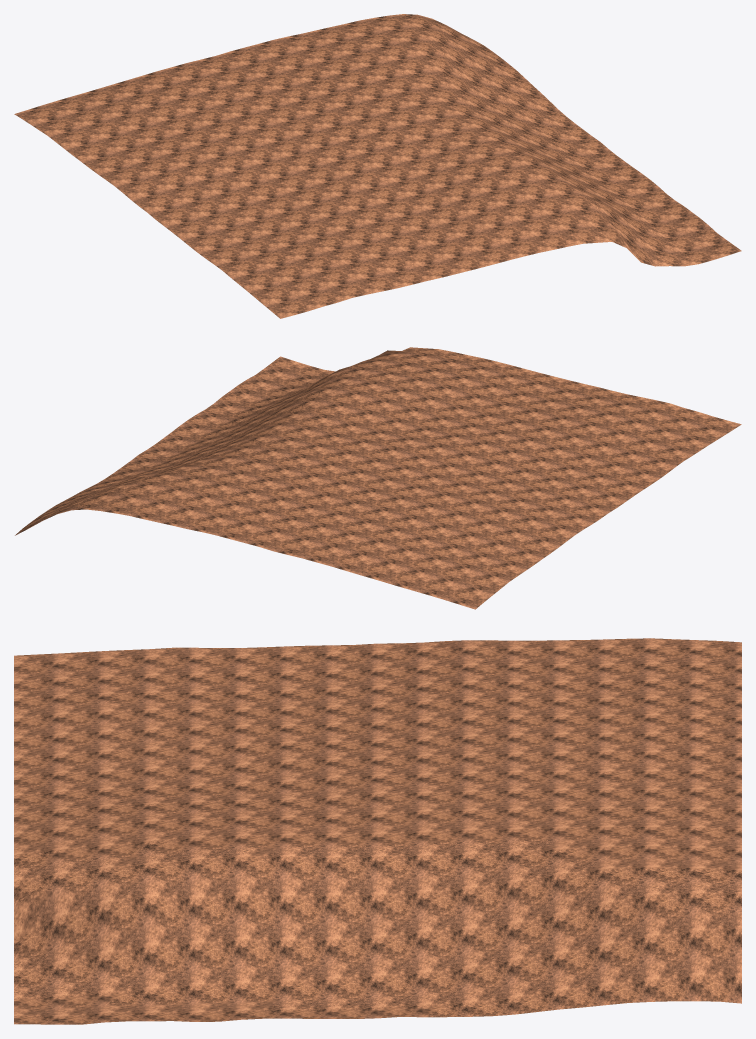
File: terrain_04_16.dae
3 views of the same model, one above another, from view 1: azimuth 30°, elevation 25°; view 2: azimuth 150°, elevation 25°; view 3: azimuth 270°, elevation 25° (orthographic). The views are drawn at different scales.
Parts seen in each view (by area): view 1: terrain_04_16-node; view 2: terrain_04_16-node; view 3: terrain_04_16-node.
Boxes of the visible parts, box(x1,y1,x2,y2) form: terrain_04_16-node: box(14, 14, 741, 318); terrain_04_16-node: box(15, 347, 741, 609); terrain_04_16-node: box(14, 638, 741, 1024).
Size of the model in its own units: 128 by 128 by 18.42.
1 material, 1 textured.
